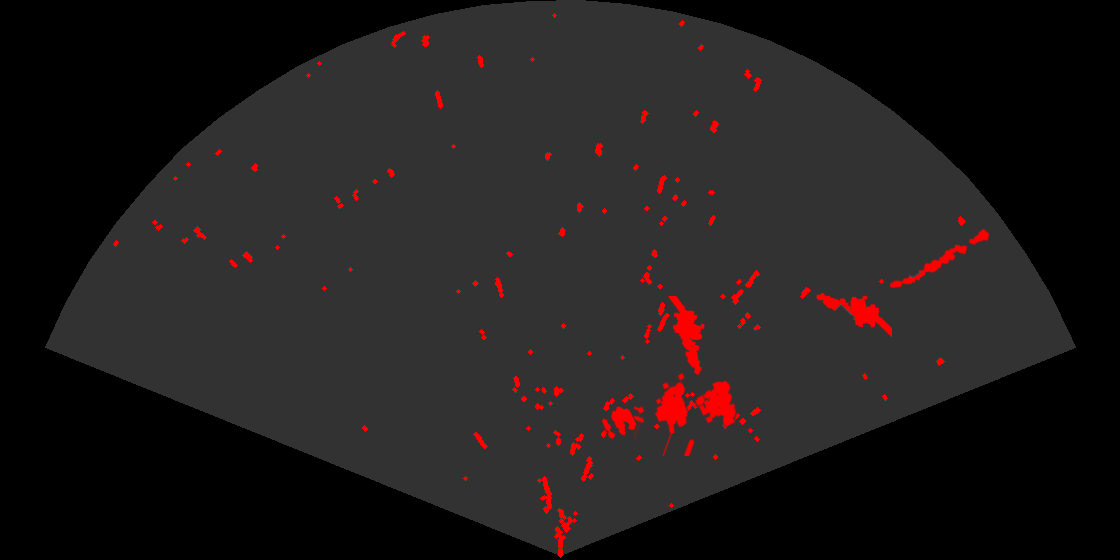ball: (600, 405, 638, 441)
cage: (634, 371, 738, 456)
chain: (888, 227, 991, 290)
frogman: (815, 291, 892, 339), (666, 296, 706, 376)
